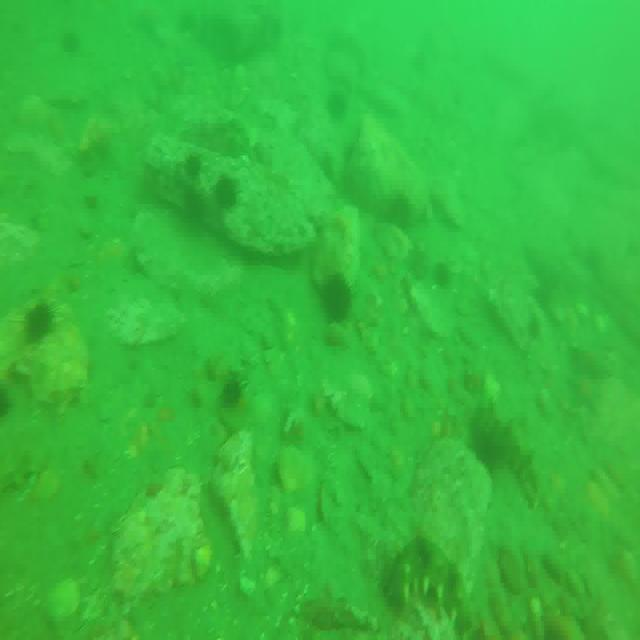echinus: (326, 274, 353, 325), (216, 167, 244, 216), (390, 186, 416, 236), (25, 302, 52, 338), (221, 378, 245, 407), (182, 148, 200, 176), (433, 262, 450, 289)
holothurian: (474, 406, 541, 502), (384, 540, 462, 613)
